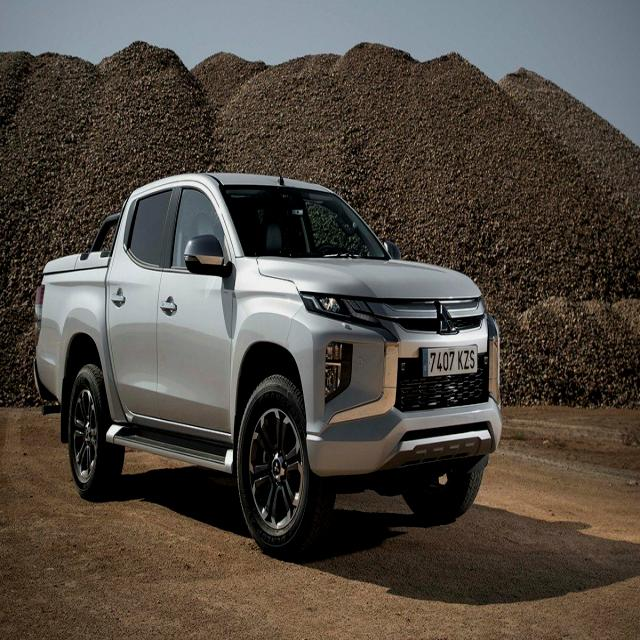CMT: (35, 168, 509, 560)
